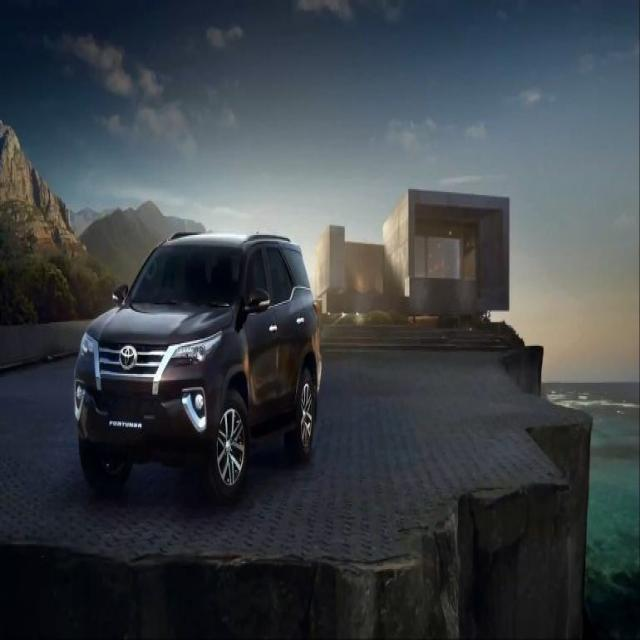light_vehicle: (73, 232, 323, 504)
